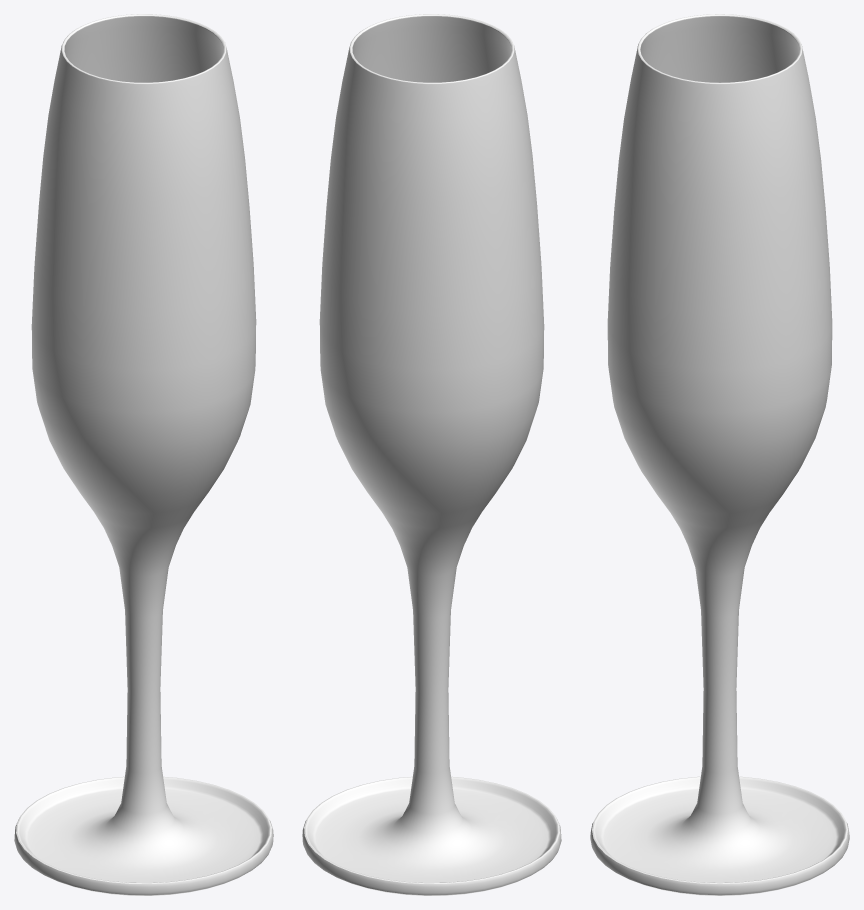
Rendered from Foyer_champagneglass_01.glb.
The picture shows the model from 3 angles, left to right: view 1: azimuth 30°, elevation 25°; view 2: azimuth 150°, elevation 25°; view 3: azimuth 270°, elevation 25°; orthographic projection.
Visible parts, largest first — view 1: pCylinder1; view 2: pCylinder1; view 3: pCylinder1.
Boxes of the visible parts, x1,y1,x2,y2 form: pCylinder1: (14, 14, 273, 895); pCylinder1: (302, 14, 561, 895); pCylinder1: (590, 14, 849, 895).
Bounding box in the file's own units: 3.3 × 11.13 × 3.3.
Materials: 1 (1 with a texture image).
